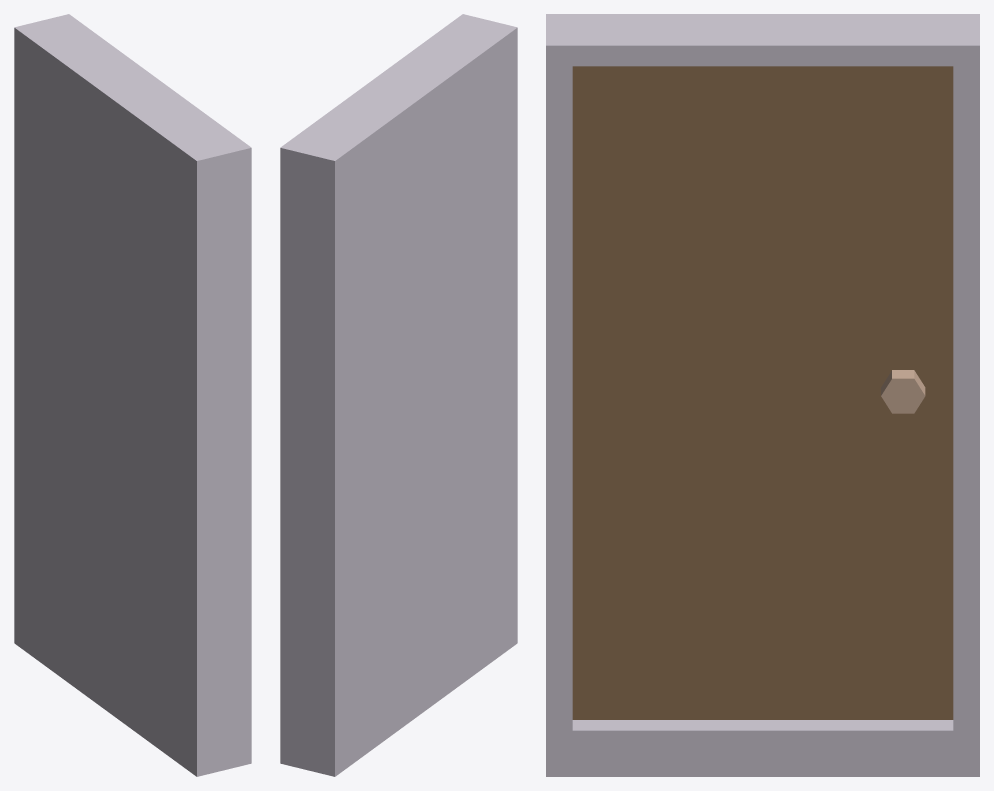
The model's file is door.dae.
3 renders of one model, left to right at view 1: azimuth 30°, elevation 25°; view 2: azimuth 150°, elevation 25°; view 3: azimuth 270°, elevation 25°, orthographic. The views are drawn at different scales.
Visible parts, largest first — view 1: Cube_001; view 2: Cube_001; view 3: Cube_001.
Part boxes in pixels (<box>): Cube_001: <box>14,14,251,776</box>; Cube_001: <box>280,14,517,776</box>; Cube_001: <box>546,14,979,776</box>.
Bounding box in the file's own units: 0.745 × 4.29 × 7.99.
